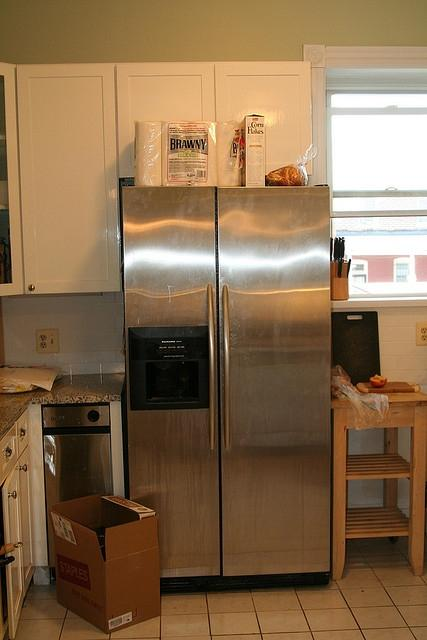apple: (370, 374, 386, 388)
